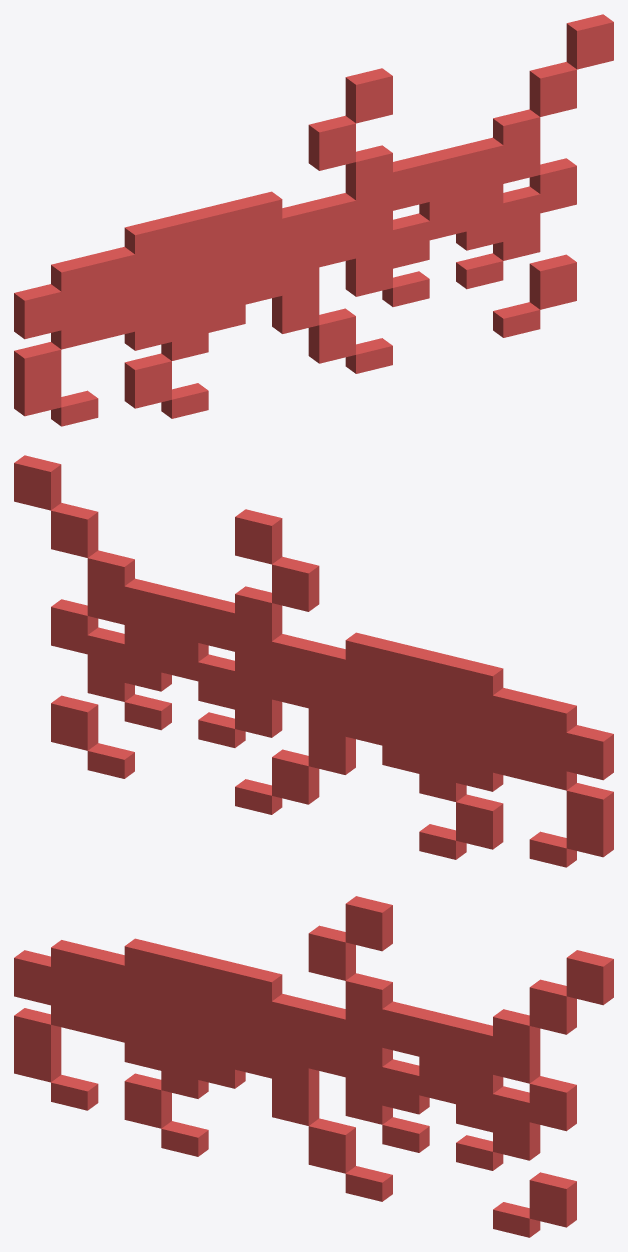
The model's file is Ant-Pink.vox.obj.
The picture shows the model from 3 angles, top to bottom: view 1: azimuth 30°, elevation 25°; view 2: azimuth 150°, elevation 25°; view 3: azimuth 330°, elevation 25°; orthographic projection.
Size of the model in its own units: 3.2 by 1.5 by 0.1.
1 material, 1 textured.
